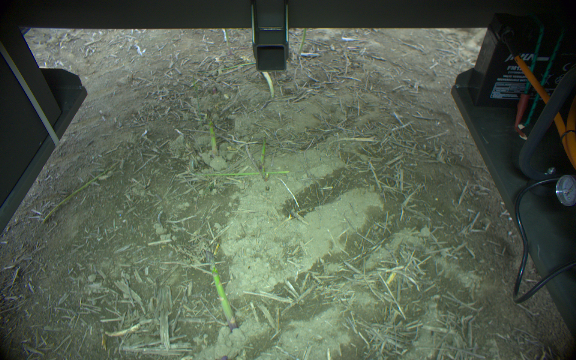aspa: (200, 248, 239, 332), (204, 107, 218, 158), (255, 133, 271, 174), (294, 28, 310, 61)
